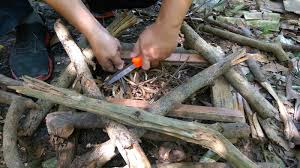wood_together: (186, 22, 300, 162)
